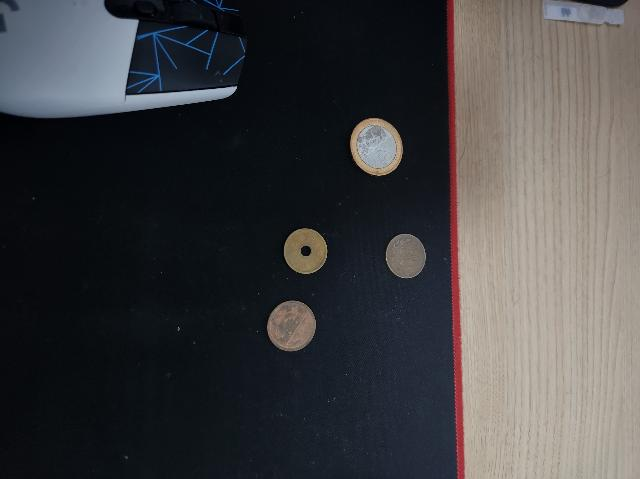coin: (350, 117, 402, 179), (268, 298, 314, 352), (286, 227, 328, 275), (386, 236, 428, 278)
